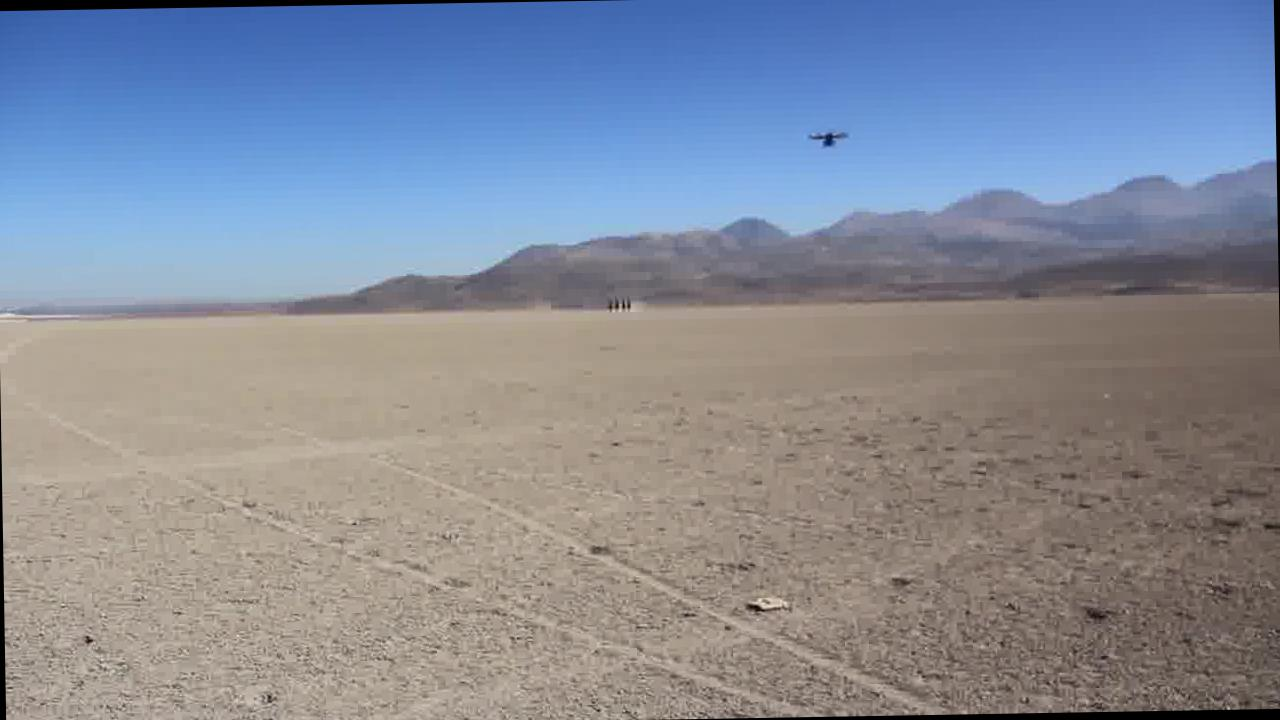drone: (804, 121, 852, 149)
